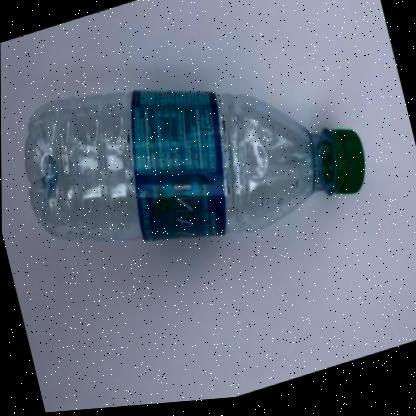Plastic: (24, 93, 365, 244)
